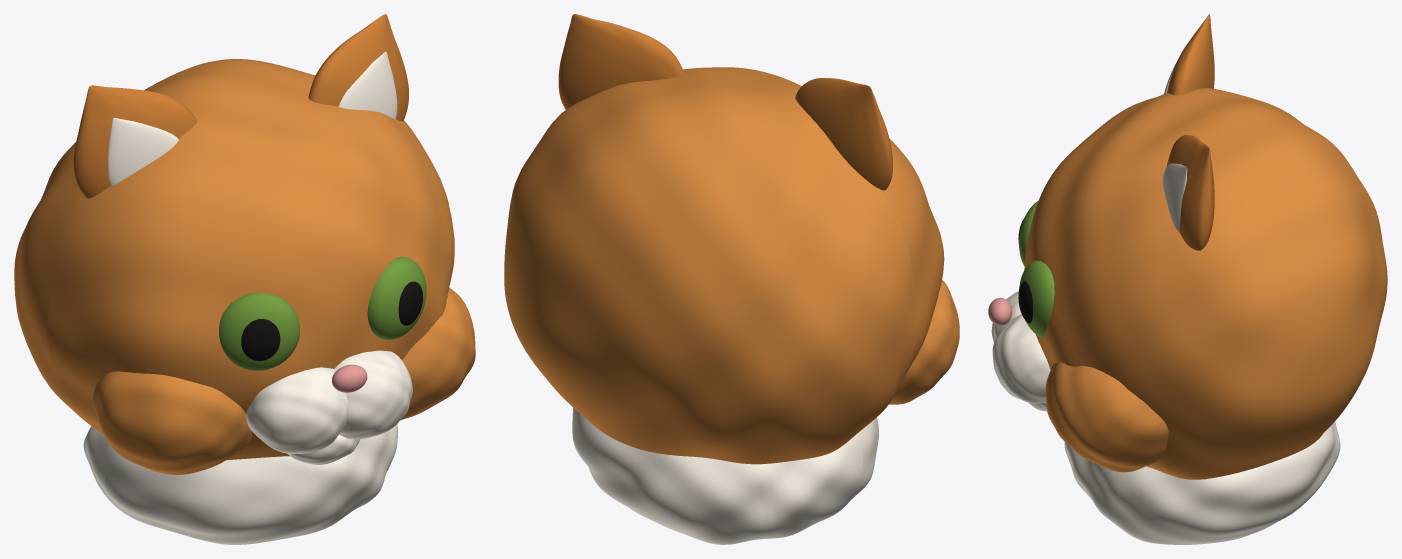
File: head-cat-tabby-full.glb
3 renders of one model, left to right at view 1: azimuth 30°, elevation 25°; view 2: azimuth 150°, elevation 25°; view 3: azimuth 270°, elevation 25°, orthographic. The views are drawn at different scales.
Parts seen in each view (by area): view 1: PM_FUR_MAIN_1, PM_FUR_SECONDARY_16, PM_FUR_MAIN_2, PM_FUR_SECONDARY_4, PM_EARS_12, PM_FUR_MAIN_3, PM_FUR_SECONDARY_5, PM_EARS_14, PM_EYES_7, PM_FUR_SECONDARY_13, PM_EYES_9, PM_FUR_SECONDARY_15 (+4 smaller); view 2: PM_FUR_MAIN_1, PM_FUR_SECONDARY_16, PM_EARS_14, PM_EARS_12, PM_FUR_MAIN_2; view 3: PM_FUR_MAIN_1, PM_FUR_SECONDARY_16, PM_FUR_MAIN_3, PM_FUR_SECONDARY_5, PM_EARS_14, PM_EARS_12, PM_EYES_9, PM_FUR_SECONDARY_15, PM_NOSE_11, PM_EYES_7, Eyes_Pupil_10.
Boxes of the visible parts, x1,y1,x2,y2 form: PM_FUR_MAIN_1: (14,59,454,460); PM_FUR_SECONDARY_16: (83,424,397,544); PM_FUR_MAIN_2: (92,371,252,474); PM_FUR_SECONDARY_4: (246,367,348,453); PM_EARS_12: (73,85,197,198); PM_FUR_MAIN_3: (401,287,475,419); PM_FUR_SECONDARY_5: (334,350,412,439); PM_EARS_14: (308,14,408,121); PM_EYES_7: (219,292,299,370); PM_FUR_SECONDARY_13: (108,118,178,185); PM_EYES_9: (367,257,426,339); PM_FUR_SECONDARY_15: (339,51,397,119); PM_FUR_MAIN_1: (504,67,944,464); PM_FUR_SECONDARY_16: (572,408,878,544); PM_EARS_14: (558,14,684,109); PM_EARS_12: (795,78,893,190); PM_FUR_MAIN_2: (889,280,959,404); PM_FUR_MAIN_1: (1024,88,1387,479); PM_FUR_SECONDARY_16: (1064,421,1340,544); PM_FUR_MAIN_3: (1045,362,1168,472); PM_FUR_SECONDARY_5: (992,314,1050,403); PM_EARS_14: (1166,135,1214,250); PM_EARS_12: (1167,14,1214,95); PM_EYES_9: (1019,260,1054,338); PM_FUR_SECONDARY_15: (1162,163,1187,231); PM_NOSE_11: (988,297,1012,325); PM_EYES_7: (1019,200,1038,266); Eyes_Pupil_10: (1018,281,1032,323).
Bounding box in the file's own units: 0.069 × 0.0809 × 0.0661.
